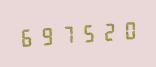five: (78, 20, 97, 45)
nine: (37, 22, 56, 48)
seven: (58, 21, 77, 47)
six: (17, 24, 36, 49)
two: (98, 18, 117, 44)
zero: (118, 17, 137, 42)
